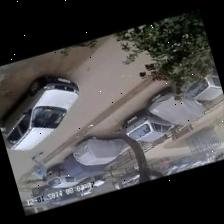person: (32, 151, 46, 180)
